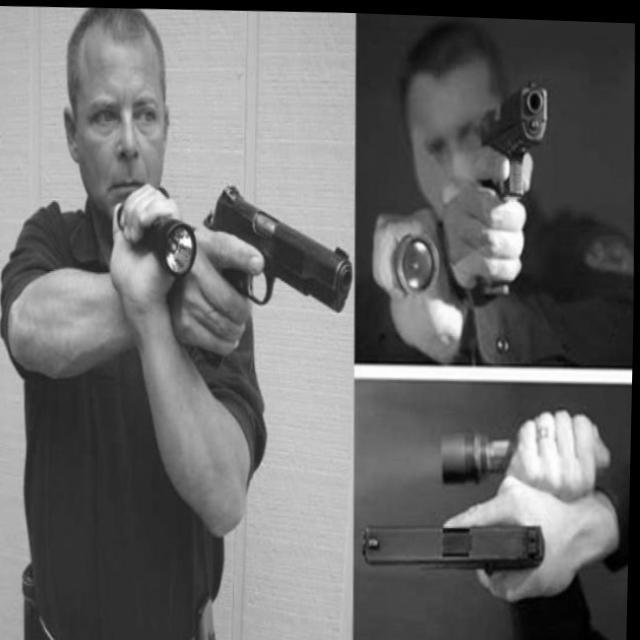weapon: (203, 172, 357, 350), (366, 513, 550, 568), (477, 76, 555, 200)
